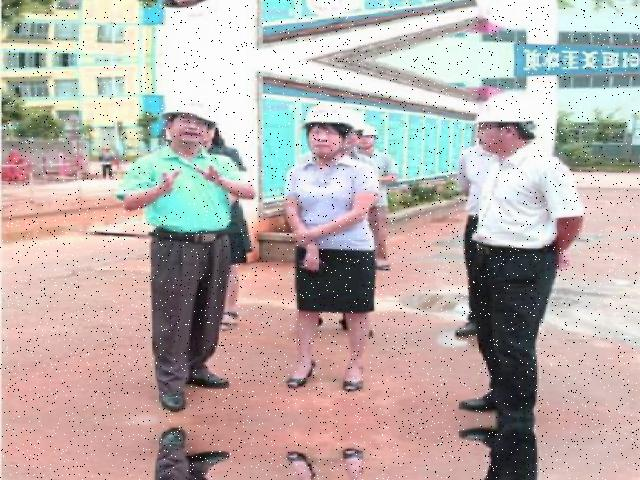Helmet: (474, 84, 546, 136), (158, 94, 224, 132), (300, 98, 364, 135)
